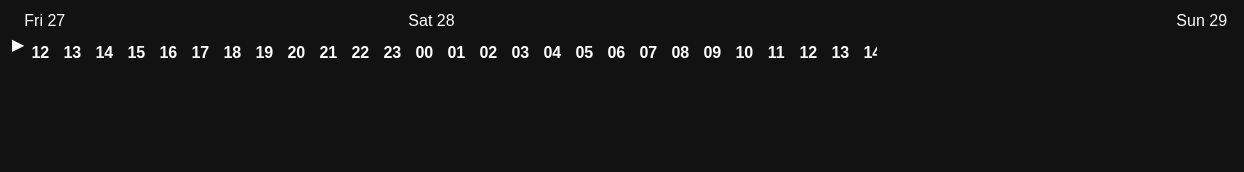
Test case: Given EN (issue #116) › Then «Play 48 h», «Forecast hour», «Fri 27»; ні title, ні aria-label без кирилиці
Expected: the navigation bar named "Forecast hour" is shown, [24,30,877,76]
Expected: the text with test id "day-mark" reads "Fri 27", [24,12,65,29]
Click the button named "Play 48 h". click: (18, 44)
box: [12,12,24,76]
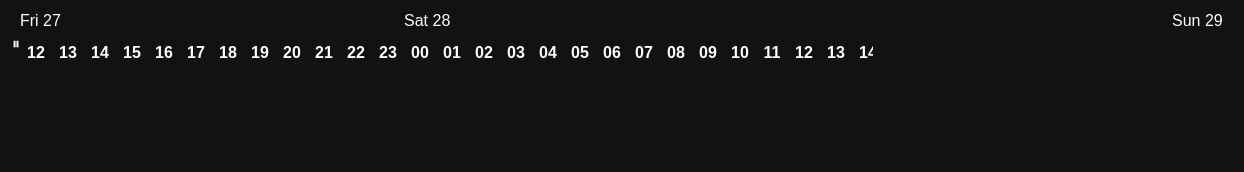
Expected: the button named "Pause" is shown, [12,12,20,76]
